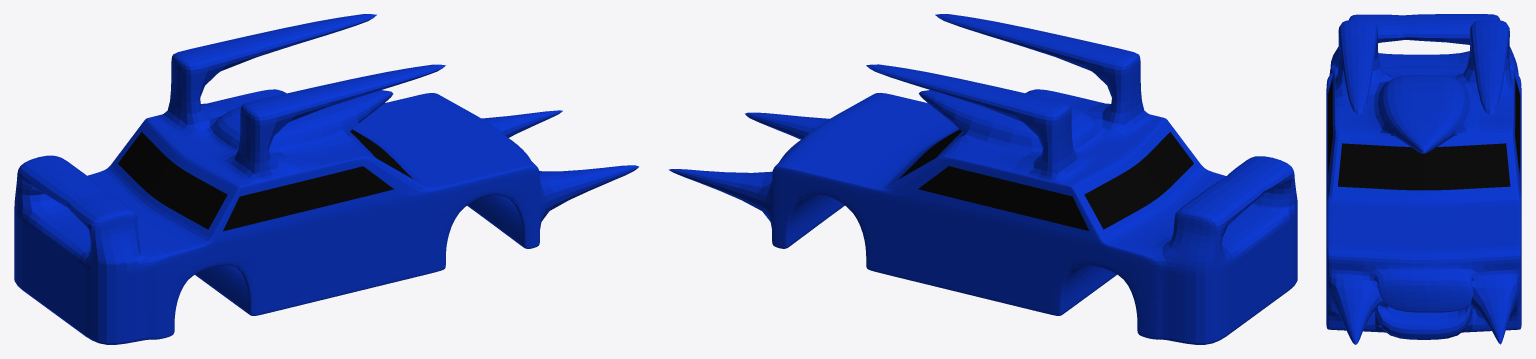
Rendered from waez_buksh_26179_assignsubmission_file_waezcar2.fbx.
3 renders of one model, left to right at view 1: azimuth 30°, elevation 25°; view 2: azimuth 150°, elevation 25°; view 3: azimuth 270°, elevation 25°, orthographic. The views are drawn at different scales.
Parts seen in each view (by area): view 1: Cube_001; view 2: Cube_001; view 3: Cube_001.
Part boxes in pixels (x1,y1,x2,y2): Cube_001: (14,14,638,344); Cube_001: (669,14,1297,344); Cube_001: (1326,14,1521,344).
Bounding box in the file's own units: 4.96 × 1.68 × 1.6.
